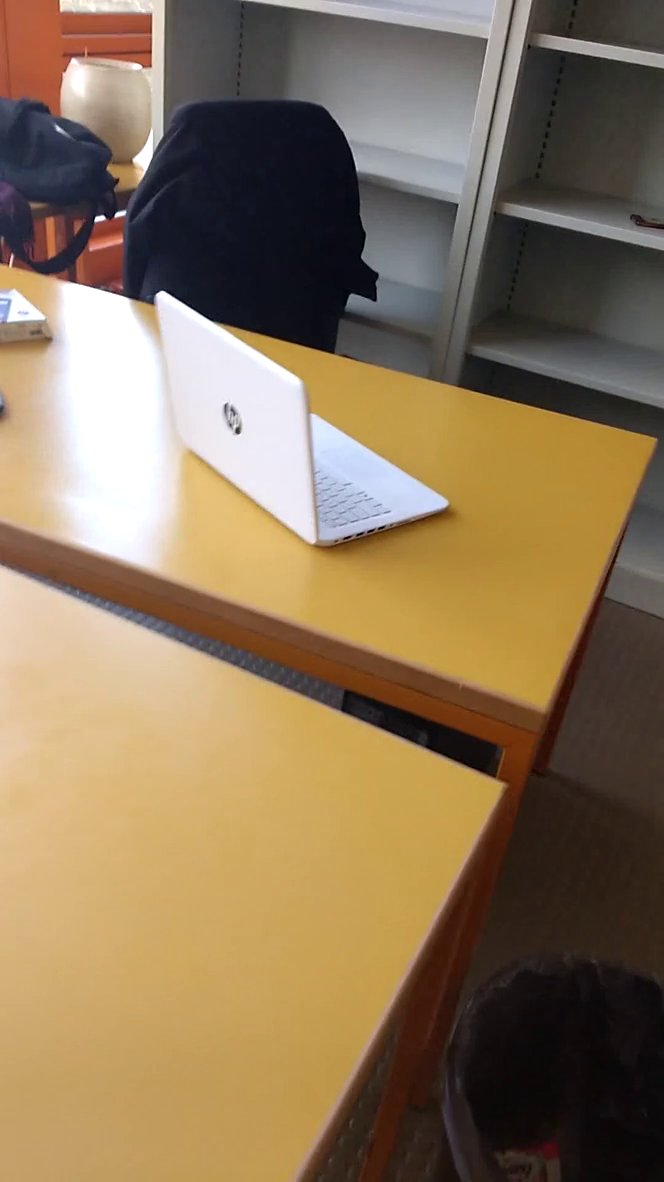chair: (125, 85, 384, 362)
laptop: (147, 284, 466, 558)
